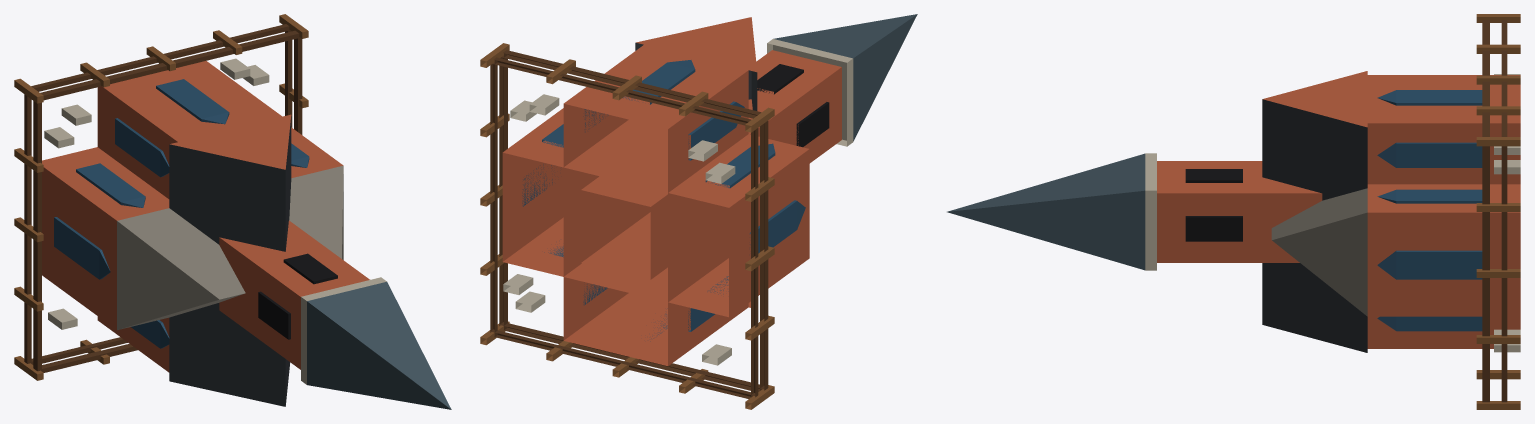
The model's file is complete.glb.
The picture shows the model from 3 angles, left to right: view 1: azimuth 30°, elevation 25°; view 2: azimuth 150°, elevation 25°; view 3: azimuth 270°, elevation 25°; orthographic projection. The views are drawn at different scales.
Parts seen in each view (by area): view 1: done_church, done_graveyard; view 2: done_church, done_graveyard; view 3: done_church, done_graveyard.
Boxes of the visible parts, x1,y1,x2,y2 form: done_church: (42, 61, 451, 409); done_graveyard: (14, 14, 308, 380); done_church: (502, 14, 917, 365); done_graveyard: (480, 43, 774, 409); done_church: (947, 71, 1520, 352); done_graveyard: (1476, 14, 1520, 409).
Size of the model in its own units: 15.56 by 15.56 by 30.
